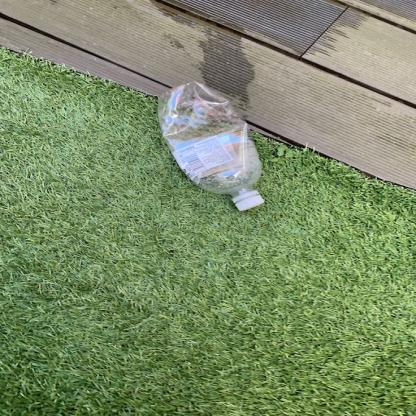trash: (154, 82, 272, 212)
